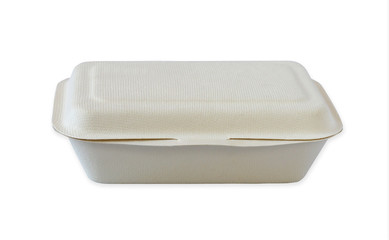styrofoam: (50, 59, 344, 187)
